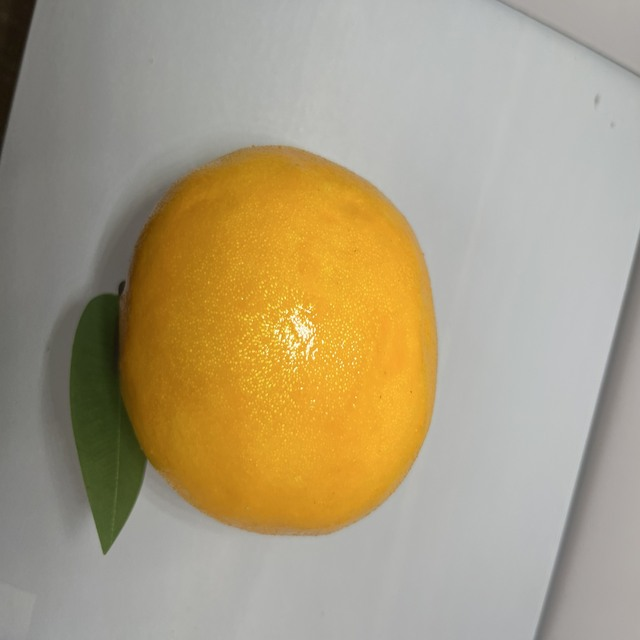Cam vang: (91, 141, 450, 547)
